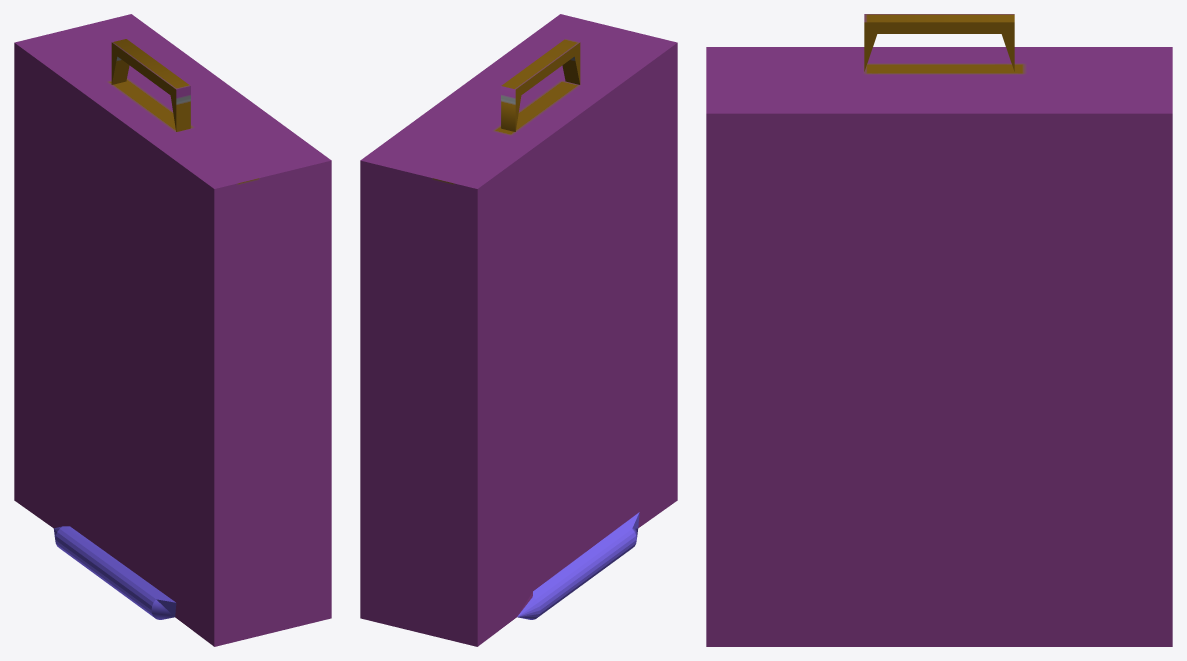
File: lounge1.fbx
3 views of the same model, side by side, from view 1: azimuth 30°, elevation 25°; view 2: azimuth 150°, elevation 25°; view 3: azimuth 270°, elevation 25° (orthographic). The views are drawn at different scales.
Visible parts, largest first — view 1: lounge2; view 2: lounge2; view 3: lounge2.
Boxes of the visible parts, x1,y1,x2,y2 form: lounge2: (14,14,331,646); lounge2: (360,14,677,646); lounge2: (706,14,1172,646).
Bounding box in the file's own units: 22.24 × 84.74 × 60.14.
